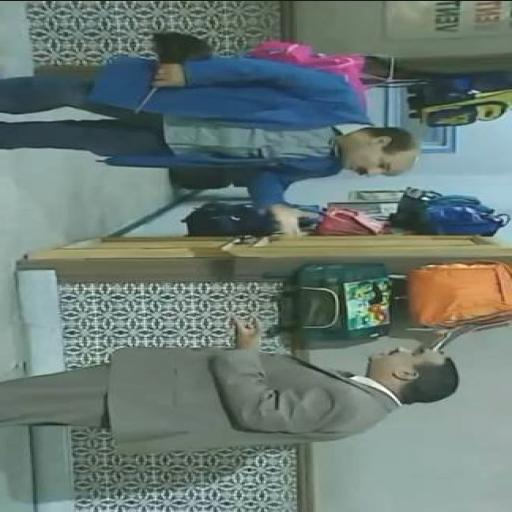beji_matrix: (338, 126, 420, 175)
slimane: (368, 347, 457, 404)
